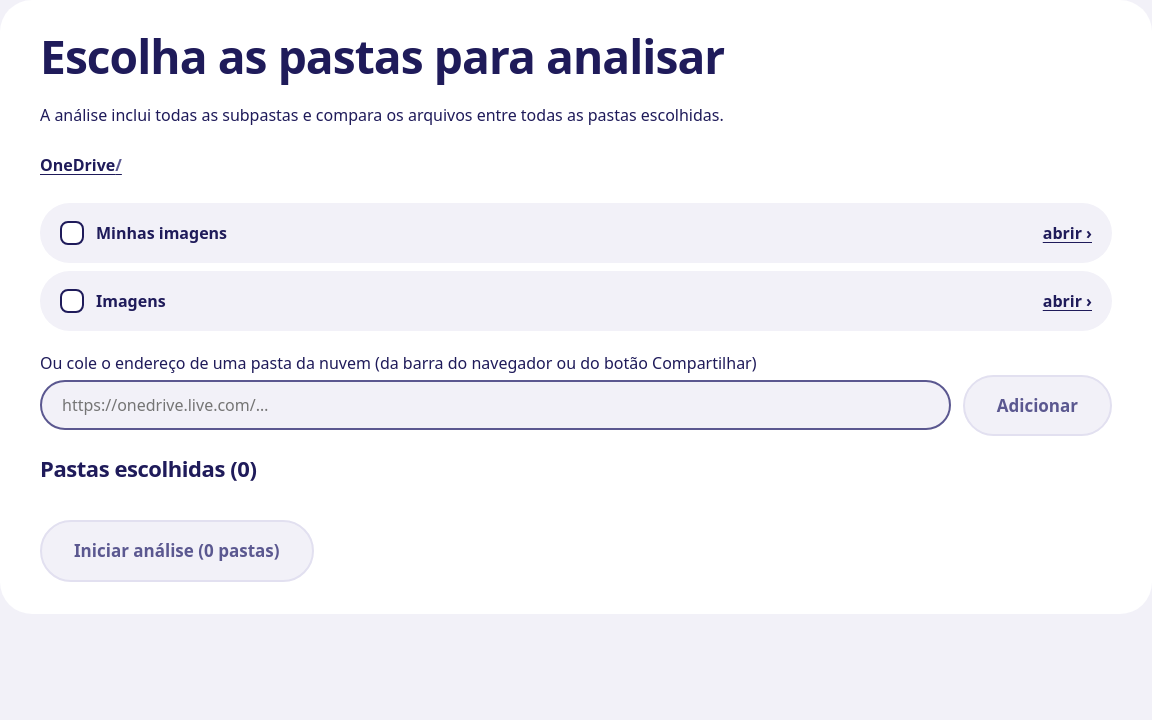
Scenario: link colado e início da análise › link inválido mostra o erro e não escolhe nada
In the field named "da barra do navegador ou do botão Compartilhar": (495, 405) [40, 380, 951, 430], type "invalido"
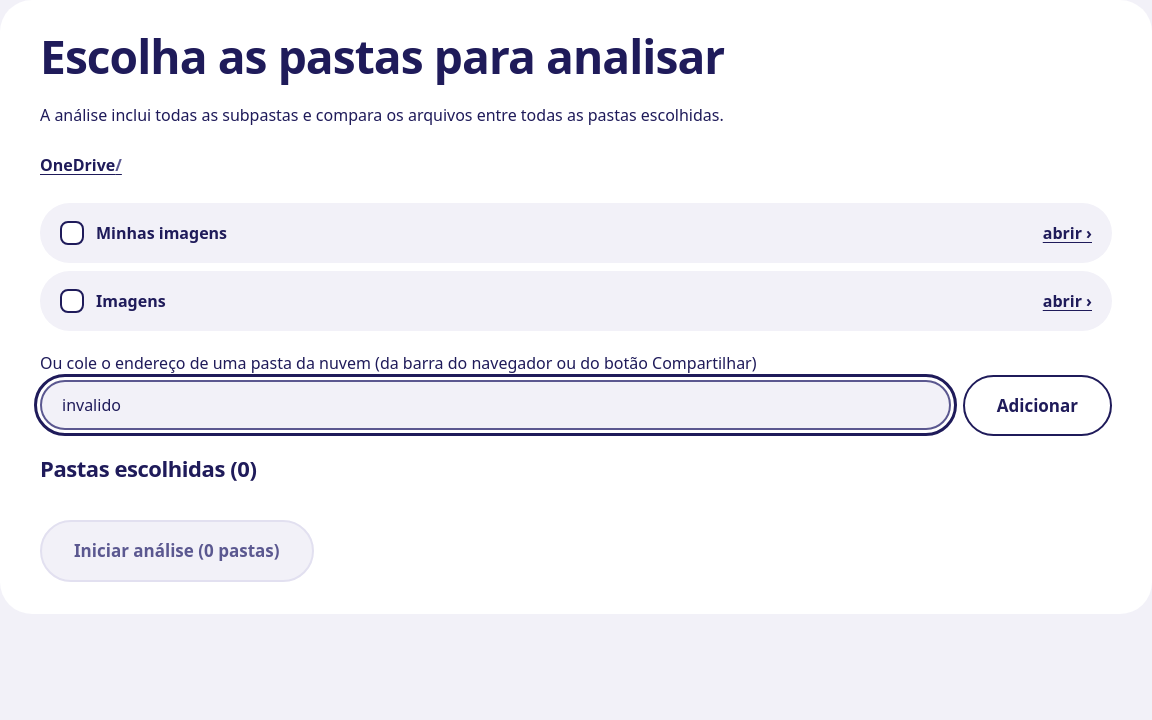
Click the button "Adicionar": (1037, 405) [963, 375, 1112, 436]
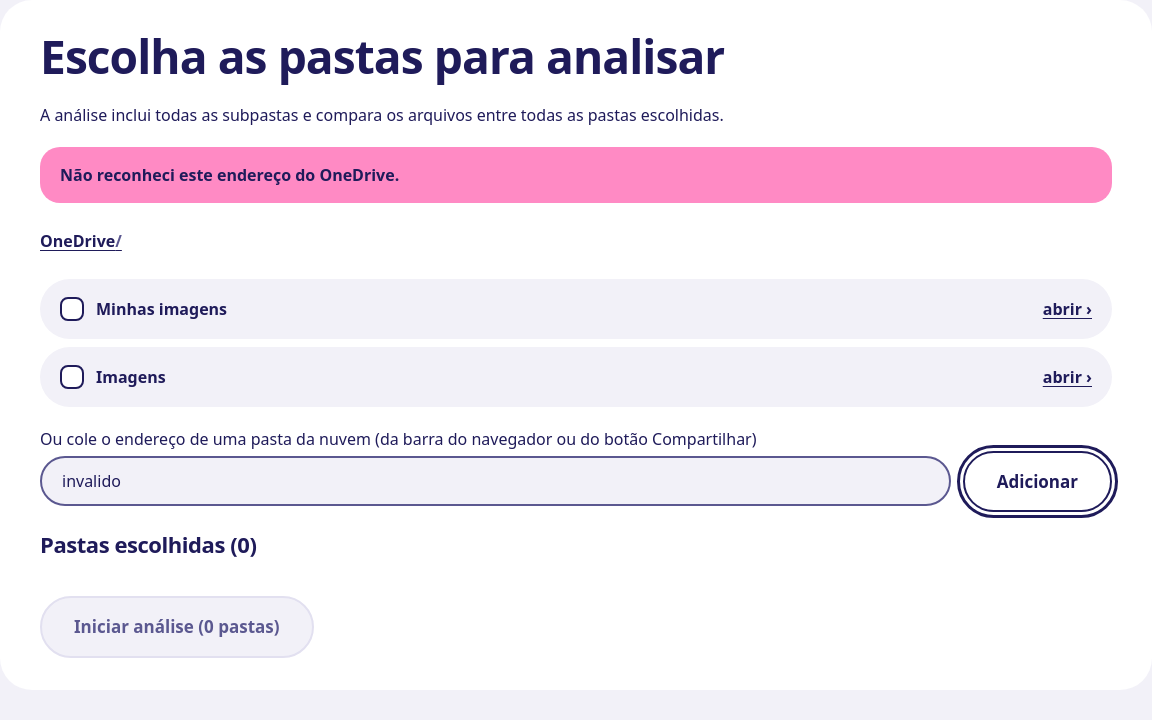
Expected: the heading "Pastas escolhidas (0)" is shown, [40, 529, 256, 559]
Expected: the text "Não reconheci este endereço do OneDrive." is shown, [40, 147, 1112, 203]
